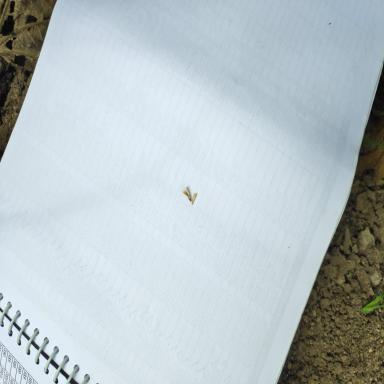pbw: (180, 184, 193, 202)
